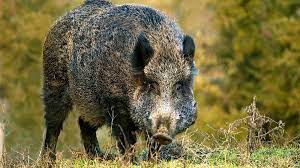boar: (42, 0, 200, 166)
